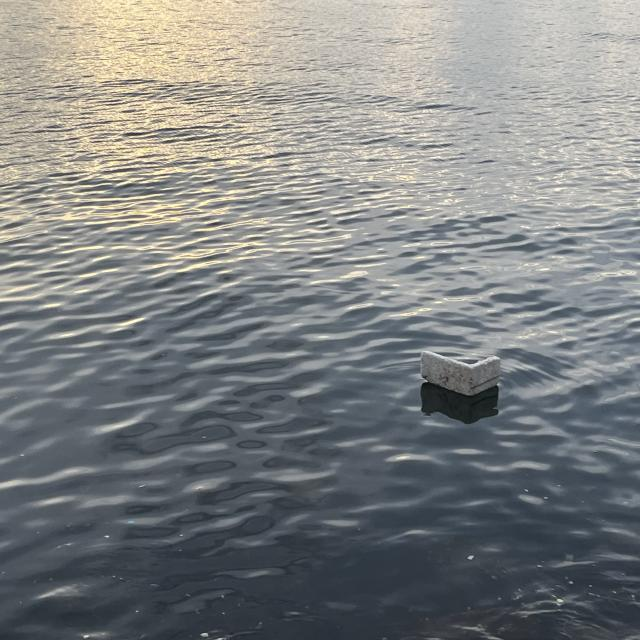foam: (420, 350, 502, 397)
